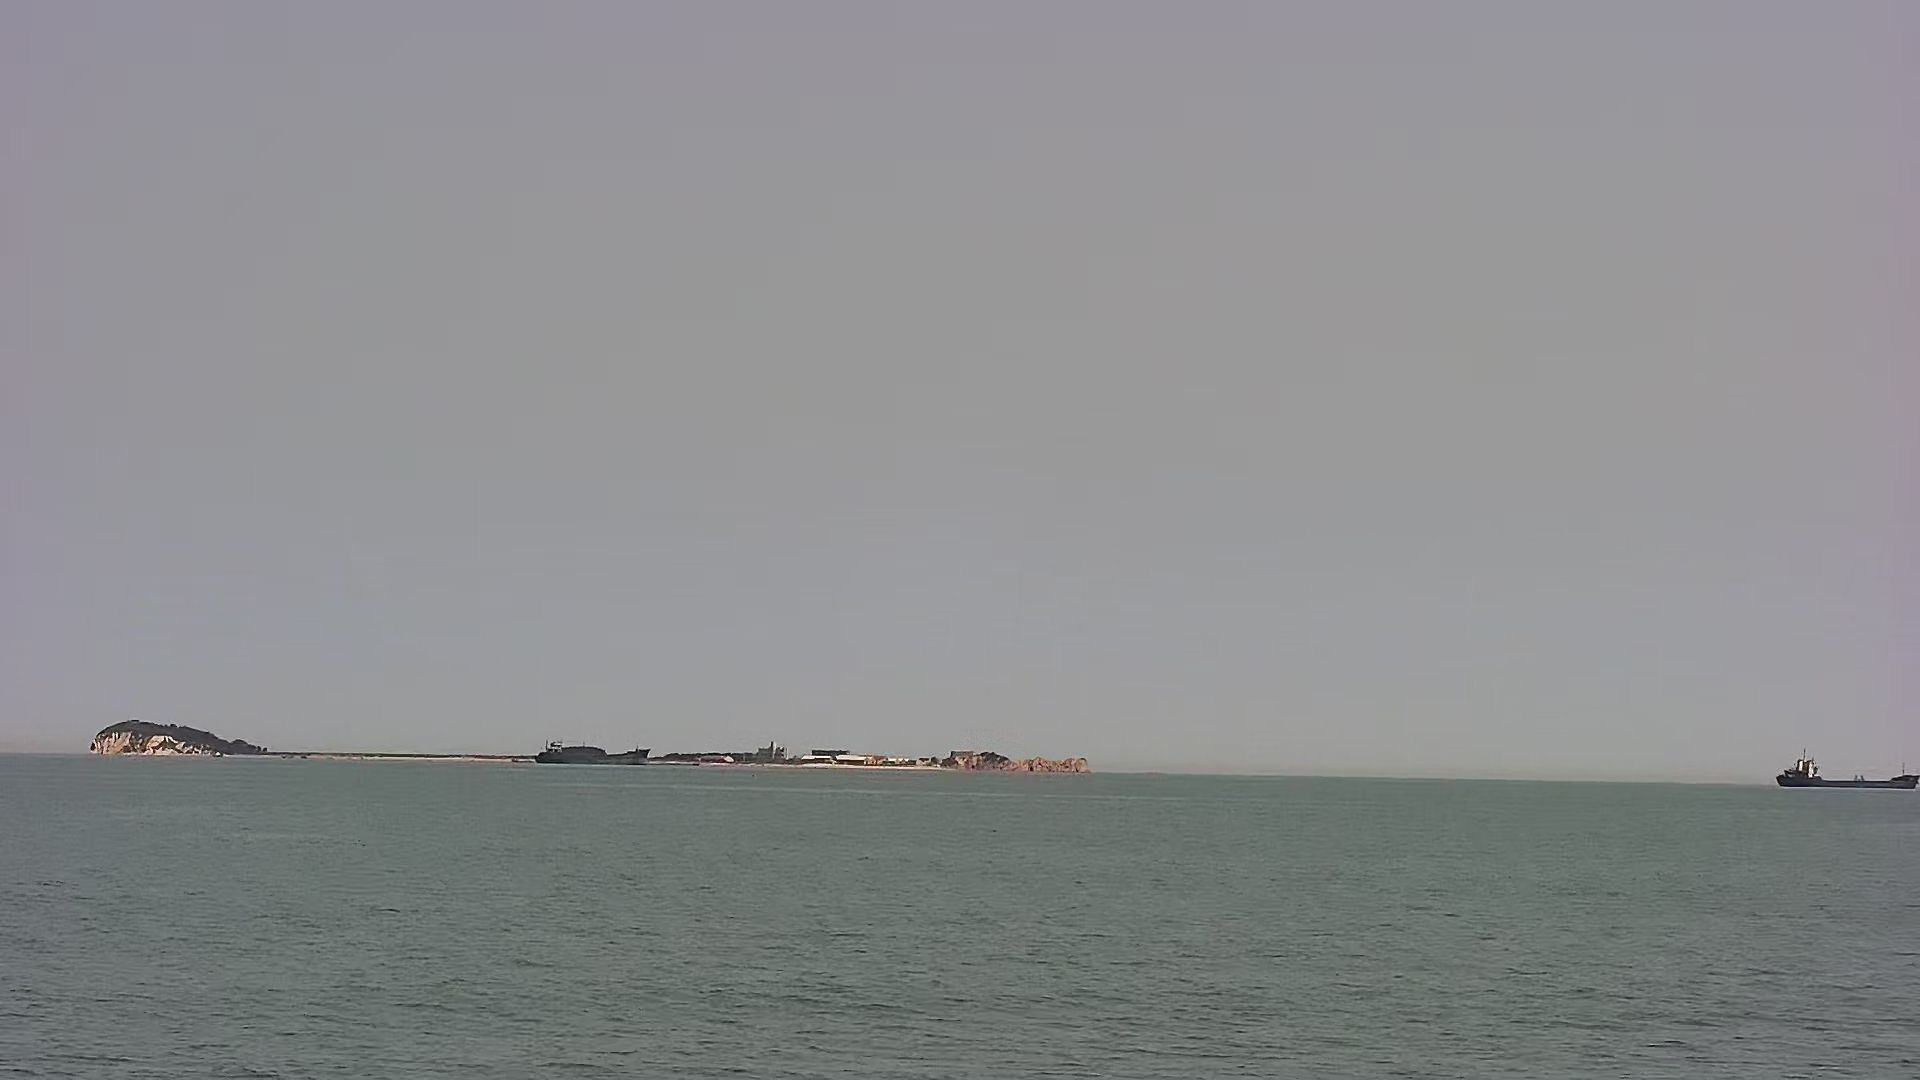boat: (1778, 762, 1920, 802), (527, 738, 655, 771)
rock: (80, 720, 278, 760), (948, 745, 1112, 779)
